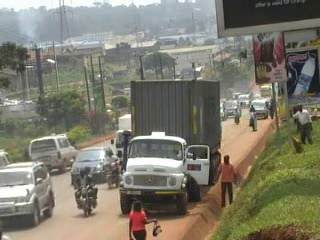Car: (0, 159, 56, 226), (68, 141, 117, 184), (224, 100, 240, 118)
Motorcycle: (68, 168, 101, 217), (103, 152, 125, 190), (228, 104, 242, 126)
